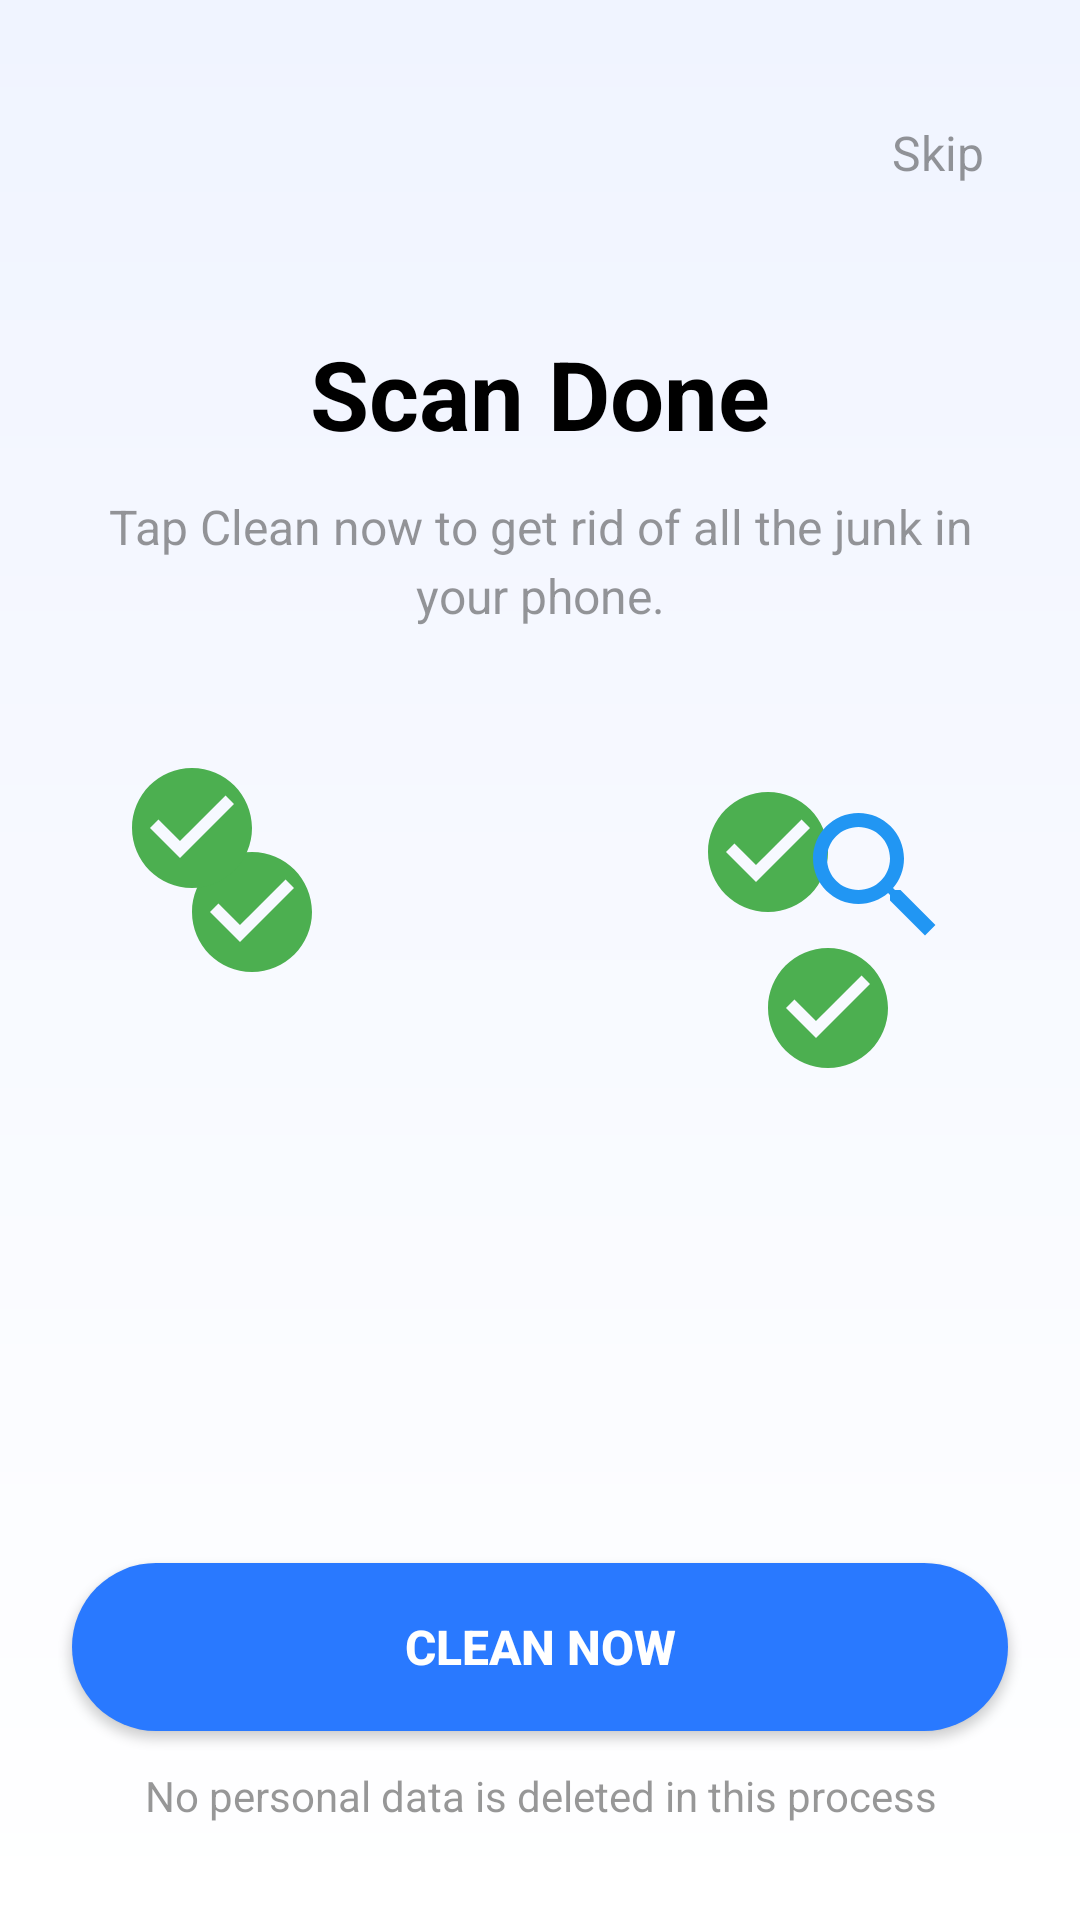

Icon bounding boxes for this 1080×1920 phone screenshot, format {"left": x1, "top": y1, "right": x2, "bottom": y2}:
check circle: {"left": 132, "top": 768, "right": 264, "bottom": 900}, {"left": 708, "top": 792, "right": 840, "bottom": 912}, {"left": 180, "top": 840, "right": 312, "bottom": 972}, {"left": 768, "top": 948, "right": 888, "bottom": 1068}
magnify glass: {"left": 792, "top": 797, "right": 935, "bottom": 960}
